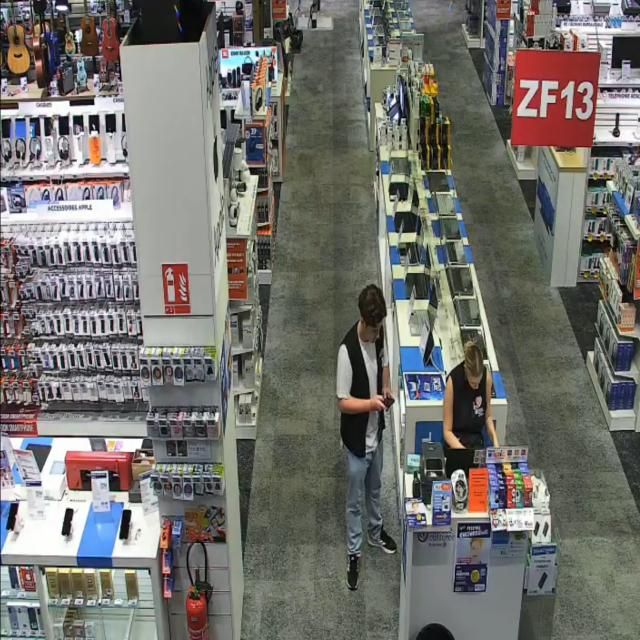hands: (370, 396, 386, 411), (383, 387, 395, 400), (493, 436, 499, 447)
person: (337, 285, 396, 590), (444, 342, 498, 448)
